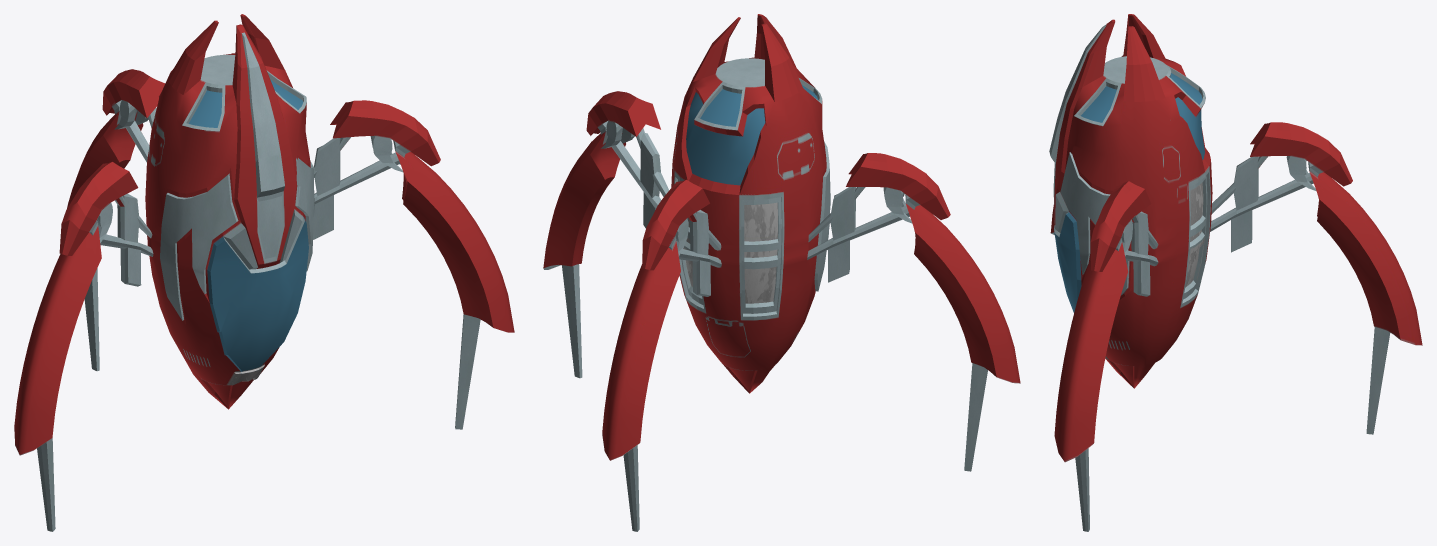
3 renders of one model, left to right at view 1: azimuth 30°, elevation 25°; view 2: azimuth 150°, elevation 25°; view 3: azimuth 270°, elevation 25°, orthographic. The views are drawn at different scales.
Visible parts, largest first — view 1: Sphere001; view 2: Sphere001; view 3: Sphere001.
Part boxes in pixels (bbox=[...]): Sphere001: bbox=[14, 14, 514, 531]; Sphere001: bbox=[543, 14, 1020, 531]; Sphere001: bbox=[1049, 14, 1422, 531].
Size of the model in its own units: 93.25 by 79.49 by 64.68.
Materials: 1 (1 with a texture image).
